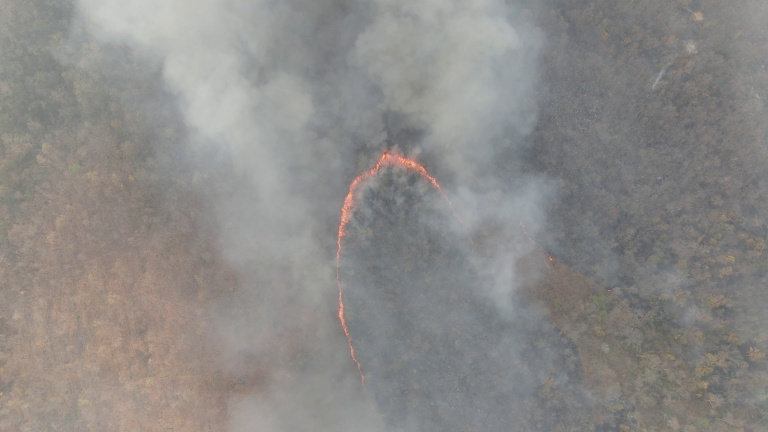fire: (334, 152, 466, 393), (540, 253, 562, 268)
smoke: (75, 4, 340, 423), (355, 2, 561, 307)
